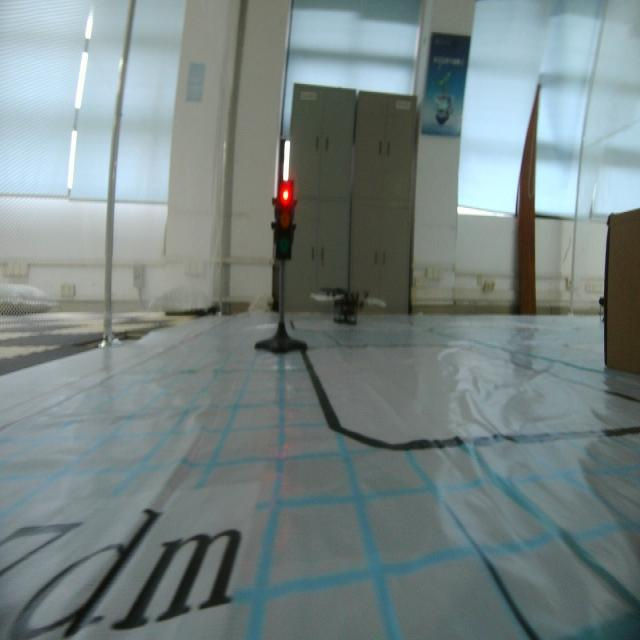red: (271, 180, 301, 264)
